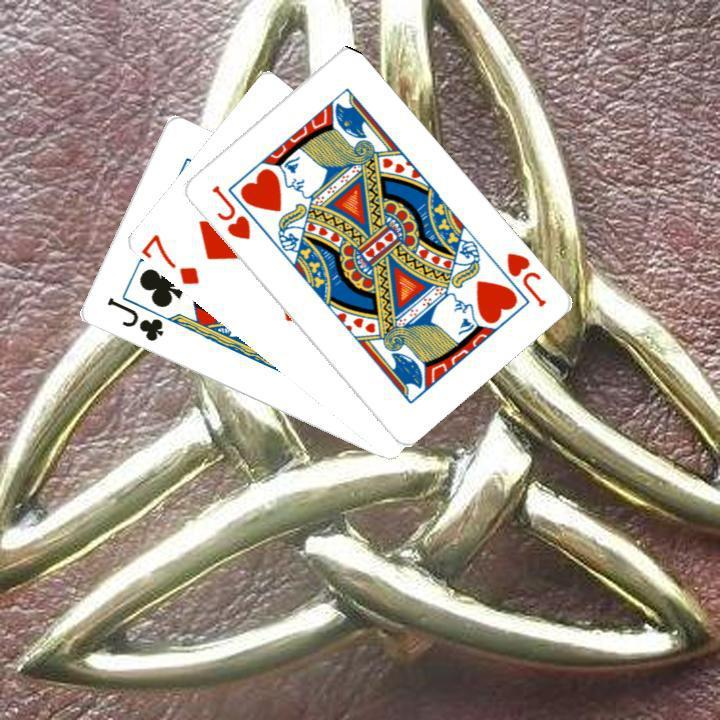7: (138, 229, 201, 287)
J: (102, 293, 165, 344), (206, 180, 253, 242), (501, 248, 548, 309)
